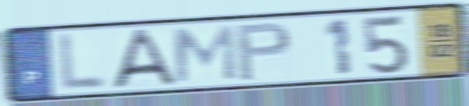1: (324, 16, 355, 76)
5: (360, 12, 414, 76)
A: (110, 27, 179, 91)
L: (58, 31, 110, 94)
M: (172, 23, 239, 85)
P: (234, 20, 294, 83)
